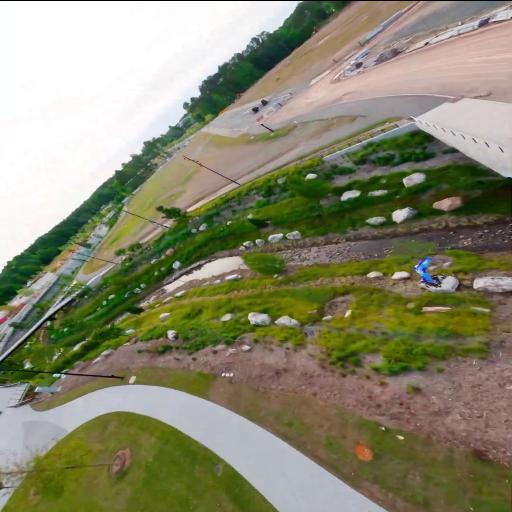uav: (413, 255, 439, 282)
